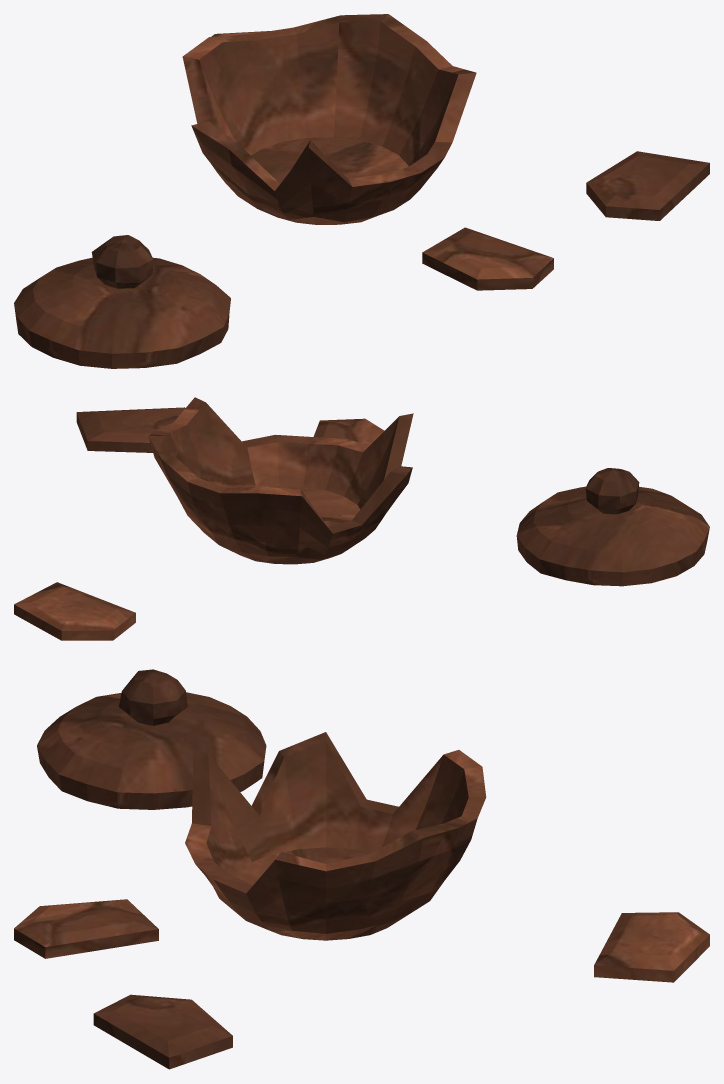
File: junk_urn_broken_d.glb
3 views of the same model, one above another, from view 1: azimuth 30°, elevation 25°; view 2: azimuth 150°, elevation 25°; view 3: azimuth 270°, elevation 25° (orthographic). The views are drawn at different scales.
Visible parts, largest first — view 1: model; view 2: model; view 3: model.
Part boxes in pixels (<box>): model: <box>14,14,709,368</box>; model: <box>14,397,709,640</box>; model: <box>14,669,709,1069</box>.
Size of the model in its own units: 0.5832 by 0.098 by 0.4835.
Materials: 3 (3 with a texture image).
